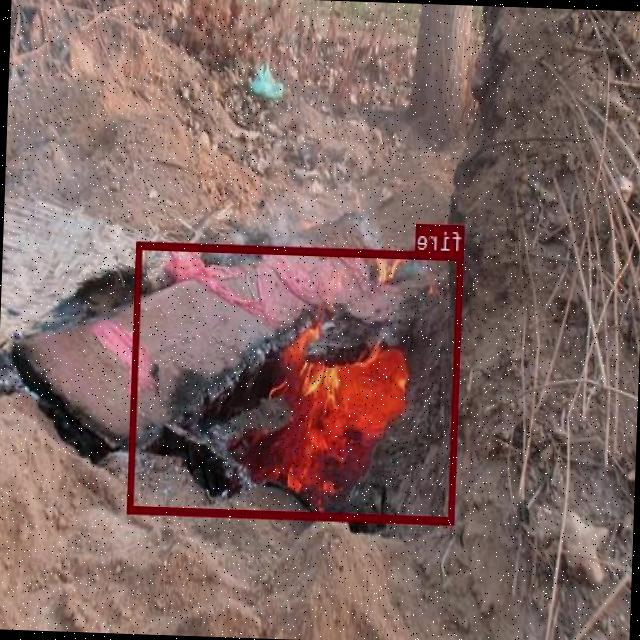fire: (128, 241, 464, 523)
